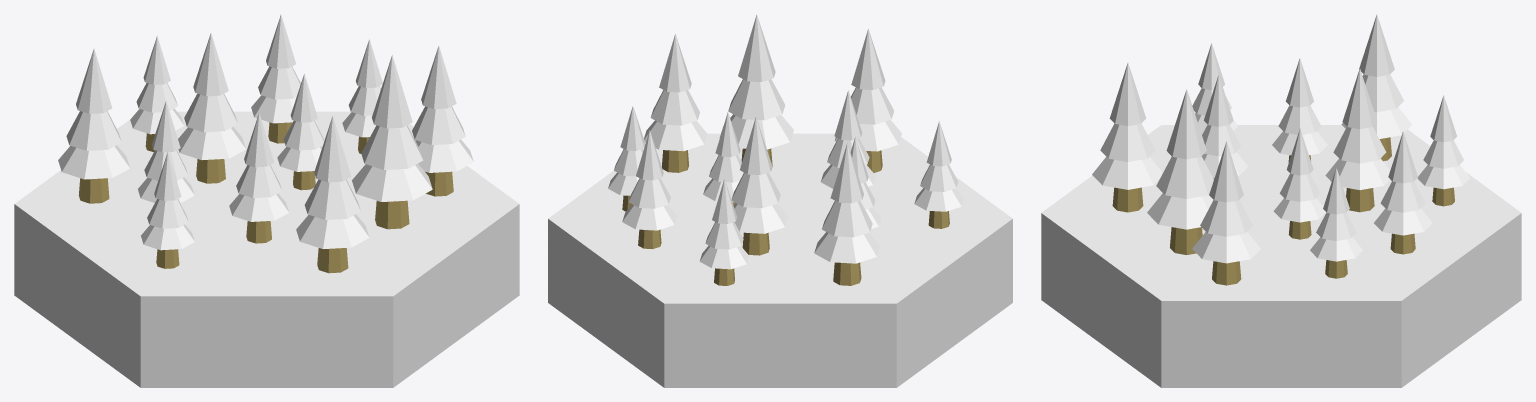
Rendered from Pinos_Chicos_Nieve_Hex.fbx.
3 renders of one model, left to right at view 1: azimuth 30°, elevation 25°; view 2: azimuth 150°, elevation 25°; view 3: azimuth 270°, elevation 25°, orthographic. The views are drawn at different scales.
Parts seen in each view (by area): view 1: Pinos_Bajos_Nieve; view 2: Pinos_Bajos_Nieve; view 3: Pinos_Bajos_Nieve.
Boxes of the visible parts, <box> form: Pinos_Bajos_Nieve: <box>14,14,519,387</box>; Pinos_Bajos_Nieve: <box>548,14,1012,387</box>; Pinos_Bajos_Nieve: <box>1041,14,1521,387</box>.
Size of the model in its own units: 86.6 by 56.59 by 100.
Materials: 1 (1 with a texture image).
